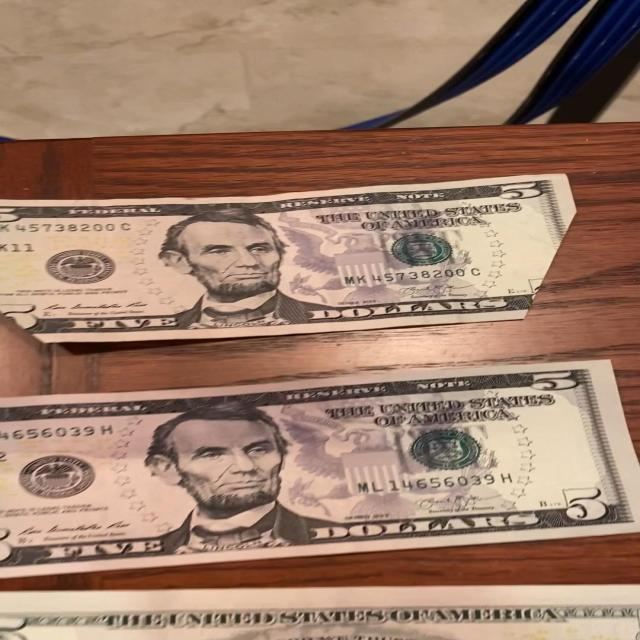5-Front: (0, 356, 640, 582), (0, 171, 584, 347)
